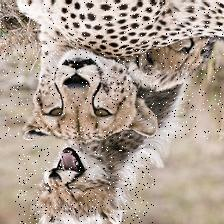Cheetha: (0, 0, 224, 138), (15, 143, 155, 224)
